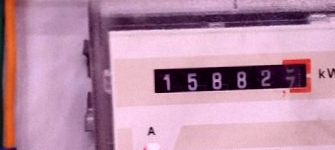1: (159, 71, 172, 90)
2: (258, 67, 271, 86)
5: (184, 70, 197, 91)
7: (284, 74, 295, 88)
8: (209, 69, 222, 90), (234, 69, 247, 90)
screen: (144, 52, 320, 101)
